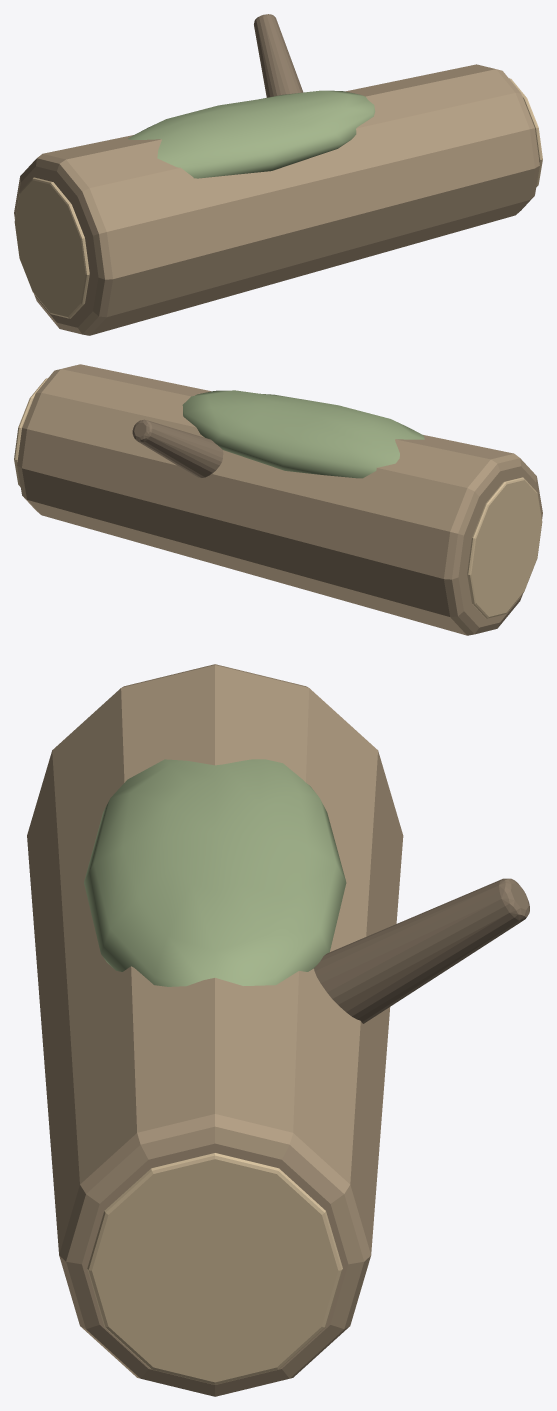
File: SM_FallenLog_UV10000.fbx
3 views of the same model, one above another, from view 1: azimuth 30°, elevation 25°; view 2: azimuth 150°, elevation 25°; view 3: azimuth 270°, elevation 25° (orthographic). The views are drawn at different scales.
Parts seen in each view (by area): view 1: SM_FallenLog_UV10000; view 2: SM_FallenLog_UV10000; view 3: SM_FallenLog_UV10000.
Boxes of the visible parts, bbox=[...] form: SM_FallenLog_UV10000: bbox=[14, 14, 542, 335]; SM_FallenLog_UV10000: bbox=[14, 364, 542, 635]; SM_FallenLog_UV10000: bbox=[27, 664, 529, 1396].
Size of the model in its own units: 350 by 165 by 142.
